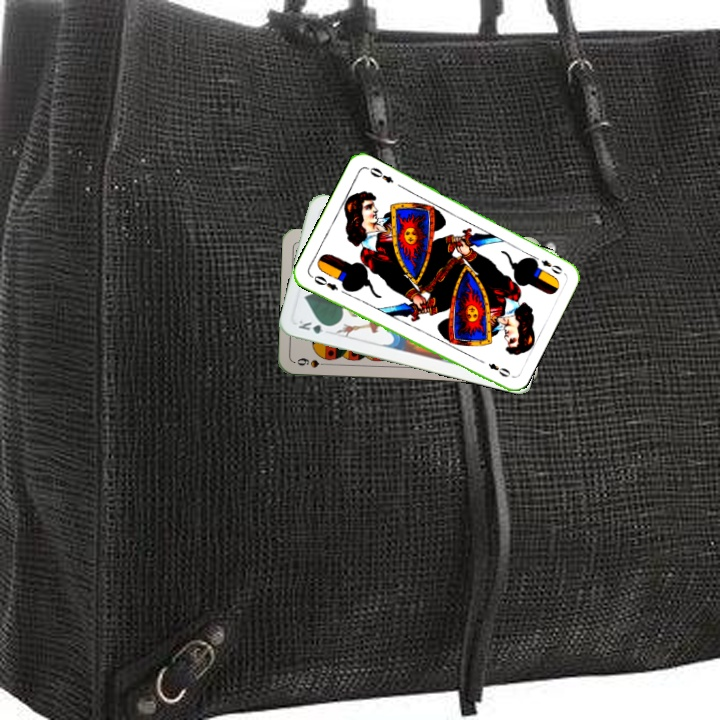EO: (528, 252, 565, 277), (307, 271, 341, 293)
GK: (294, 316, 334, 336)
S9: (294, 354, 333, 370)
